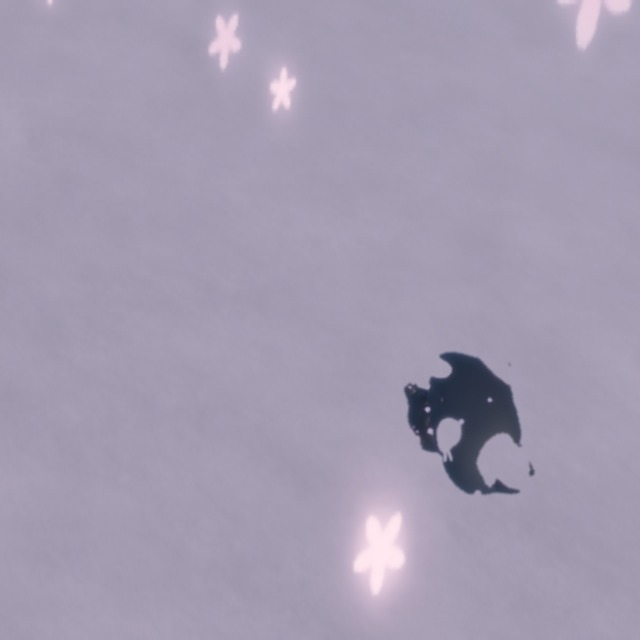urso_preto: (367, 305, 574, 546)
